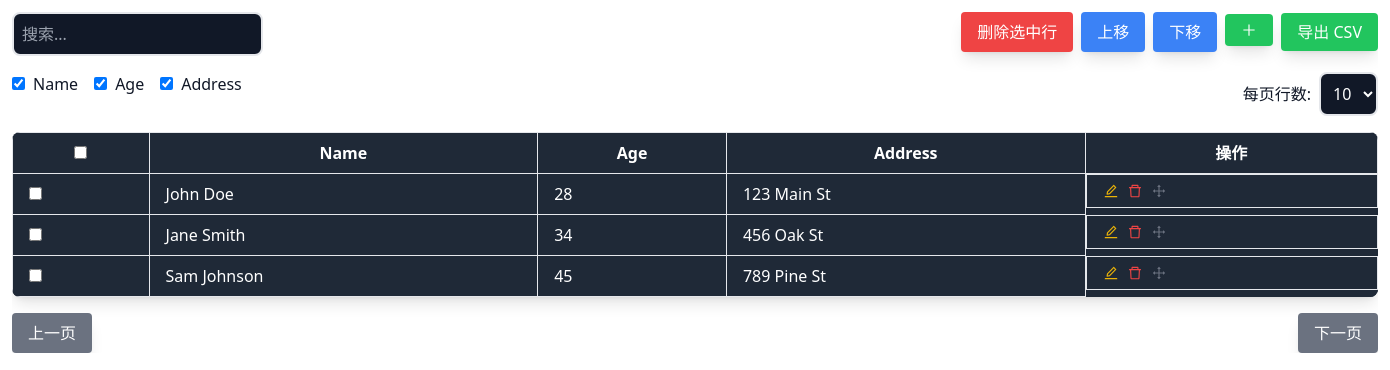
Test: Table Component › handles column toggle correctly
Click the checkbox labelled "Name" at (18, 84), box [12,77,25,90]
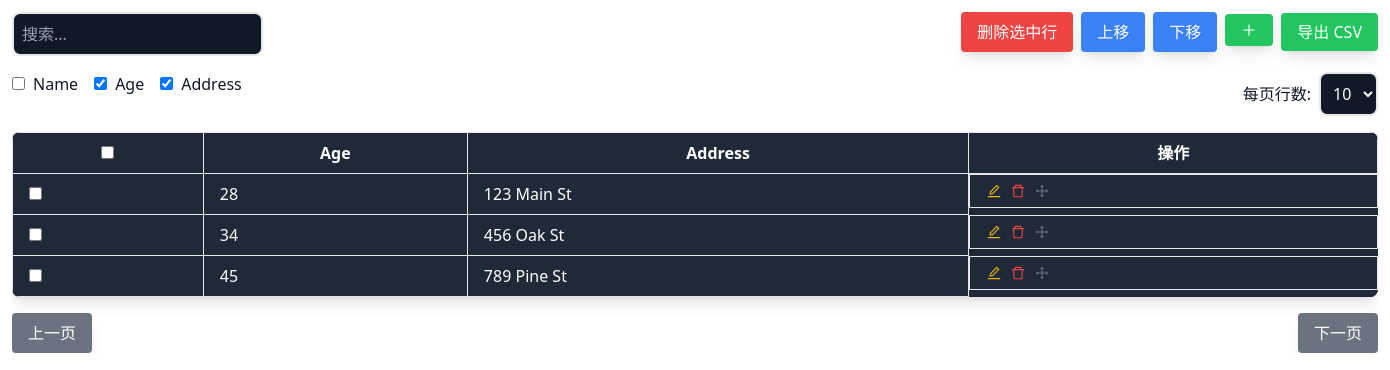
Result: the text "John Doe" is gone
